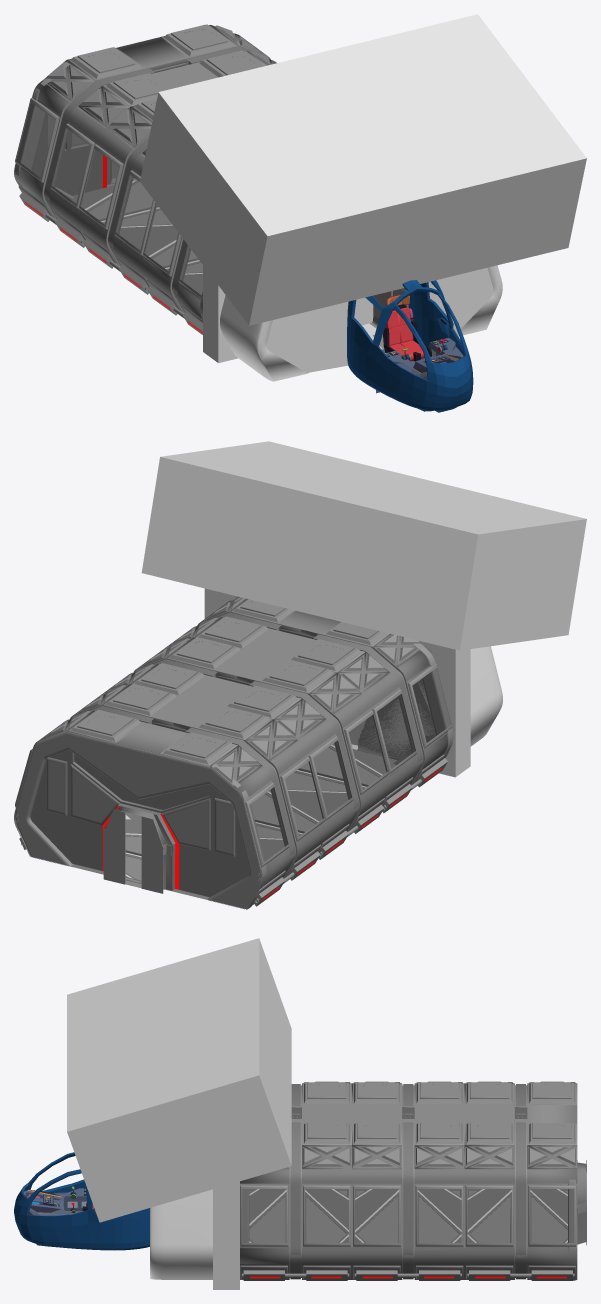
The model's file is ship.fbx.
The picture shows the model from 3 angles, top to bottom: view 1: azimuth 30°, elevation 25°; view 2: azimuth 150°, elevation 25°; view 3: azimuth 270°, elevation 25°; orthographic projection. The views are drawn at different scales.
Visible parts, largest first — view 1: Cube.040, Room, Cube.033, Cube, Floor, Pillars, Door, Cube.032, Cube.001, Pillar, Cube.004; view 2: Cube.040, Room, Door, Pillar, Floor, Pillars, Cube.033, Cube.032, Cube.035, Left_Door, Right_Door, Pillar.001; view 3: Room, Cube.040, Floor, Cube, Pillars, Cube.033, Cube.032, Cube.004, Red_Lights_2, Door, Pillar.
Part boxes in pixels (box(x1,y1,x2,y2)): Cube.040: box(140, 14, 586, 325); Room: box(14, 24, 276, 334); Cube.033: box(220, 265, 502, 381); Cube: box(347, 280, 473, 412); Floor: box(71, 180, 202, 295); Pillars: box(44, 46, 251, 312); Door: box(32, 89, 136, 195); Cube.032: box(203, 265, 237, 363); Cube.001: box(383, 304, 431, 361); Pillar: box(15, 61, 74, 199); Cube.004: box(376, 337, 463, 393); Cube.040: box(141, 441, 586, 650); Room: box(14, 596, 452, 909); Door: box(30, 750, 265, 897); Pillar: box(15, 731, 266, 909); Floor: box(30, 744, 396, 909); Pillars: box(16, 612, 422, 880); Cube.033: box(351, 646, 502, 758); Cube.032: box(204, 588, 470, 777); Cube.035: box(333, 679, 435, 760); Left_Door: box(141, 816, 163, 893); Right_Door: box(103, 809, 125, 884); Pillar.001: box(393, 643, 453, 764); Room: box(240, 1081, 577, 1280); Cube.040: box(67, 938, 291, 1222); Floor: box(249, 1189, 567, 1242); Cube: box(14, 1152, 149, 1250); Pillars: box(290, 1084, 526, 1279); Cube.033: box(150, 1189, 212, 1279); Cube.032: box(213, 1181, 239, 1289); Cube.004: box(24, 1188, 86, 1215); Red_Lights_2: box(242, 1273, 574, 1278); Door: box(577, 1160, 586, 1244); Pillar: box(568, 1179, 576, 1280).
Size of the model in its own units: 1138 by 939 by 2007.
